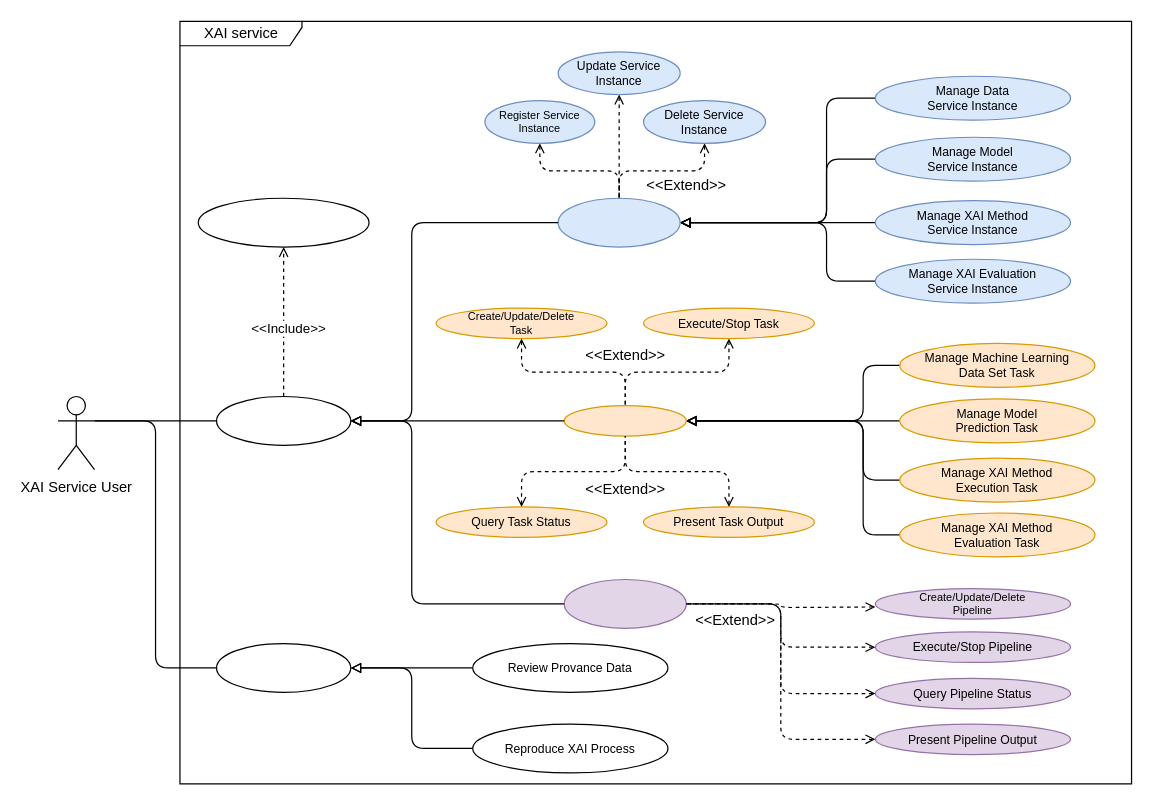
This 1153x805 diagram has some shape labels left out. Each missing label, with the box of its shape:
Collect Provenance Data: (197, 197, 369, 247)
Manage Service Instance: (557, 197, 680, 247)
Manage Task: (563, 404, 686, 436)
Manage XAI Process: (215, 395, 351, 445)
Manage XAI Project Pipeline: (563, 578, 686, 628)
Trace XAI Provance: (215, 642, 351, 692)
